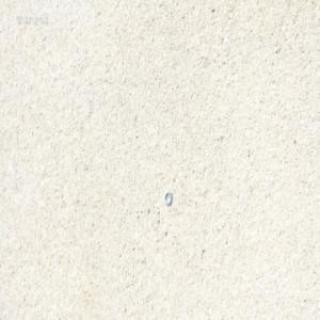Washertrack_idkeyframe: (163, 190, 171, 206)
